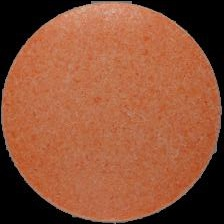50111-327: (0, 0, 224, 224)
